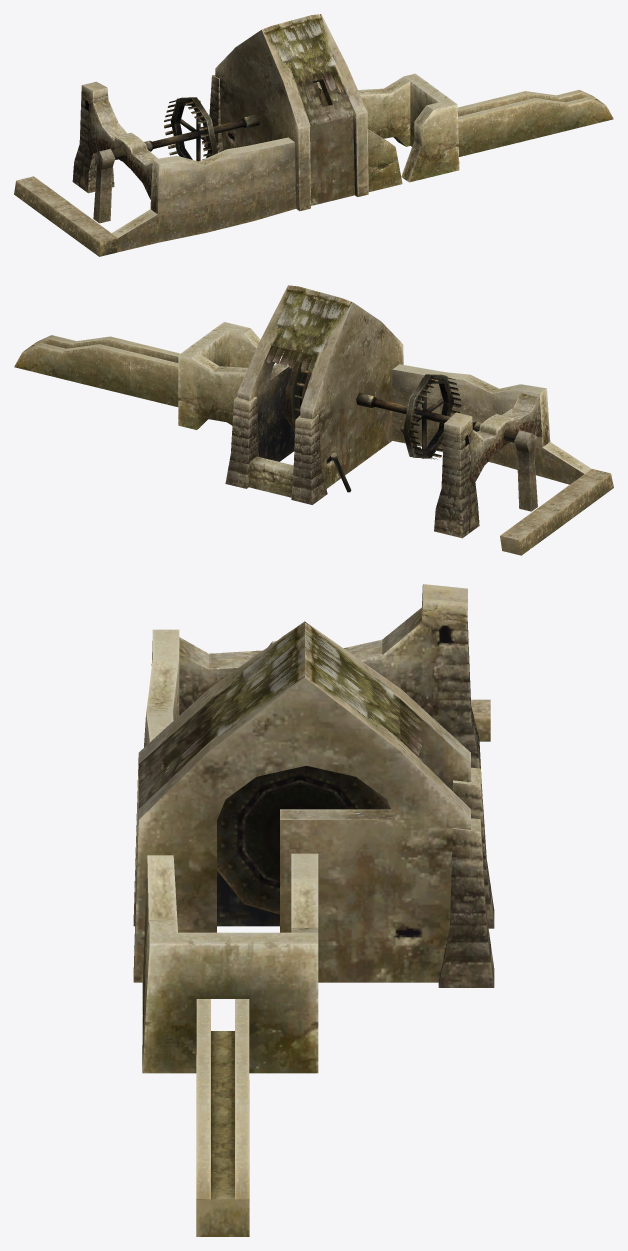
File: OZ_09_mi_oldfac01A.glb
3 renders of one model, top to bottom at view 1: azimuth 30°, elevation 25°; view 2: azimuth 150°, elevation 25°; view 3: azimuth 270°, elevation 25°, orthographic. The views are drawn at different scales.
Parts seen in each view (by area): view 1: OM_09_mi_oldfac01A; view 2: OM_09_mi_oldfac01A; view 3: OM_09_mi_oldfac01A.
Part boxes in pixels (left/top/right/bottom): OM_09_mi_oldfac01A: left=14, top=14, right=613, bottom=256; OM_09_mi_oldfac01A: left=14, top=285, right=613, bottom=555; OM_09_mi_oldfac01A: left=133, top=584, right=494, bottom=1236.
Bounding box in the file's own units: 12.8 × 3.58 × 3.8.
Materials: 3 (3 with a texture image).
